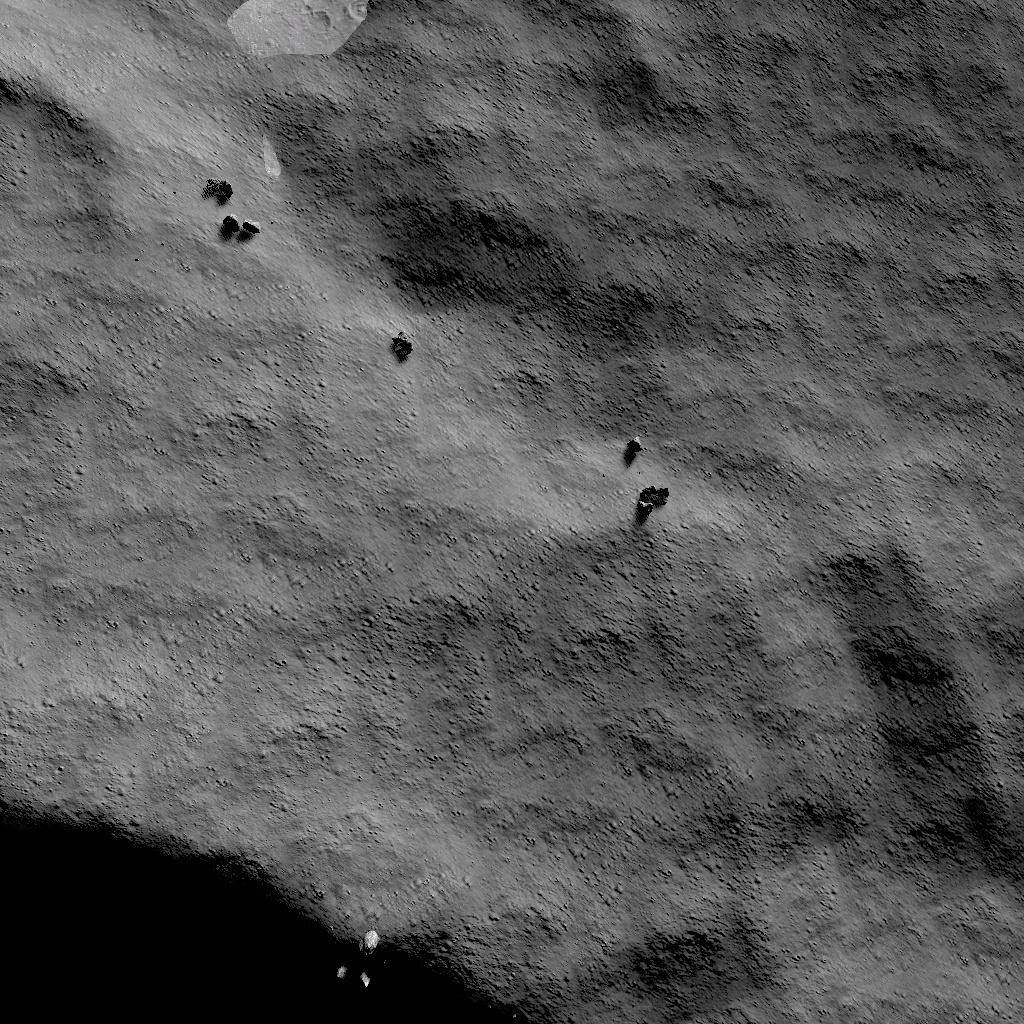Boulders: (228, 0, 384, 70)
Crater: (0, 786, 567, 1024), (0, 62, 155, 404)
Plan surface: (459, 0, 1024, 401), (1, 420, 607, 762), (691, 420, 1024, 1024)
